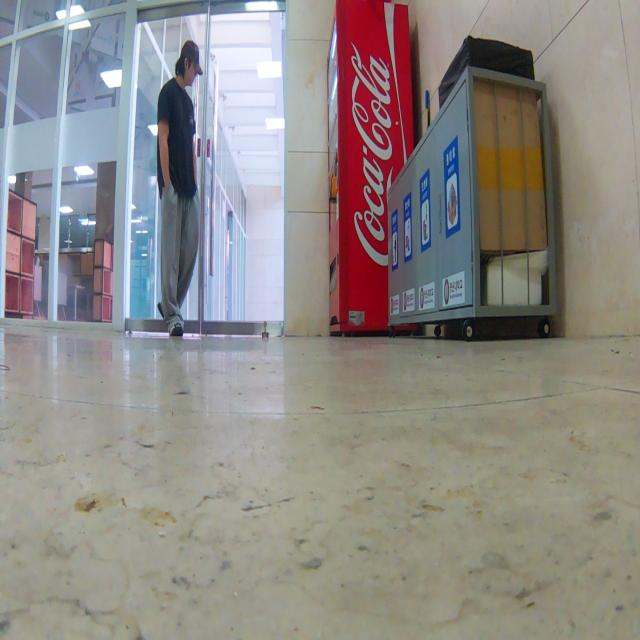target: (262, 321, 270, 340)
